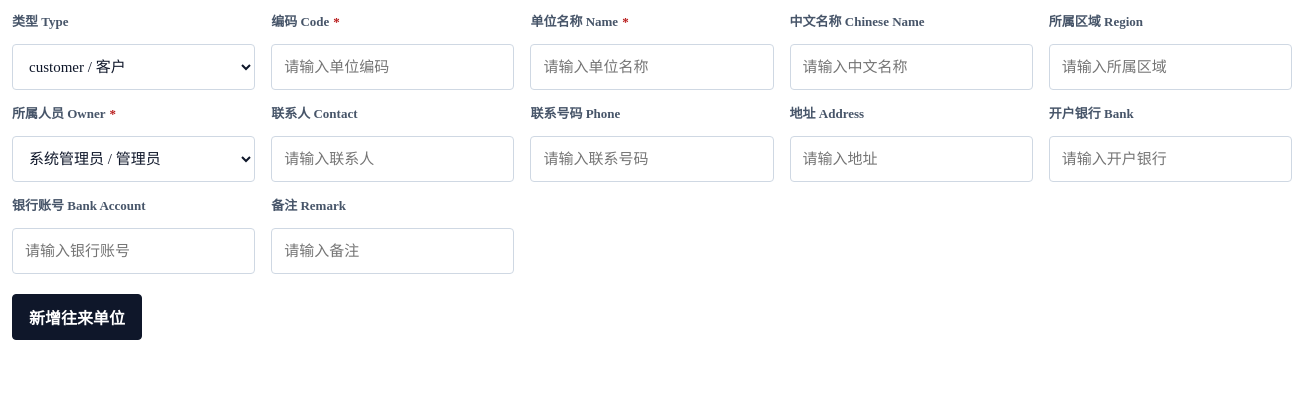
Scenario: formal counterparty master data page › shows unified required field validation before submitting create form
Click the button "新增往来单位".
click(77, 317)  # box [12,294,142,340]
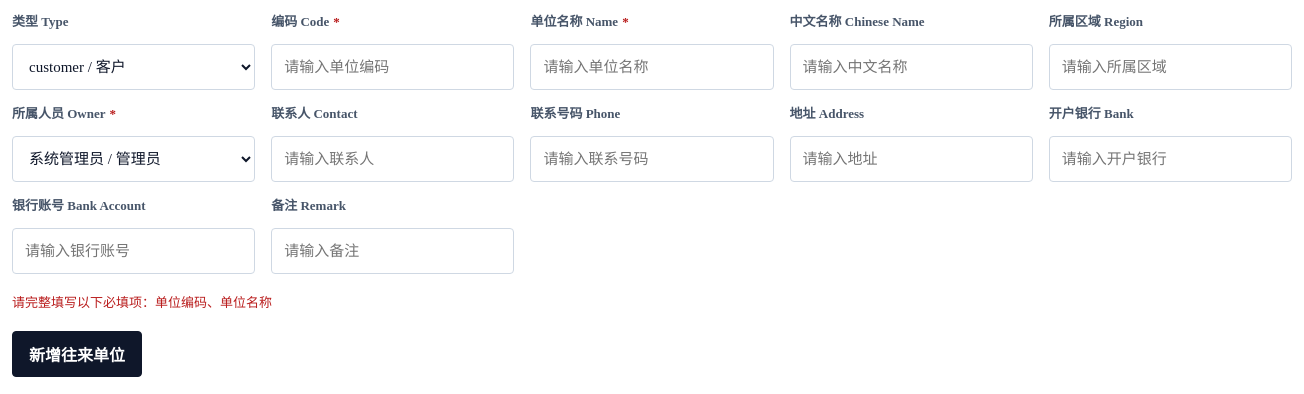
Check: the text "请完整填写以下必填项：单位编码、单位名称" is shown, box [12,295,272,310]
